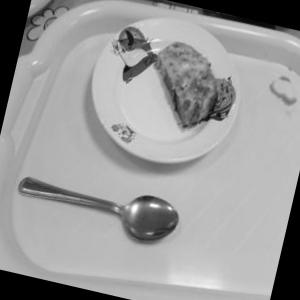cheese_sandwich: (130, 30, 247, 150)
